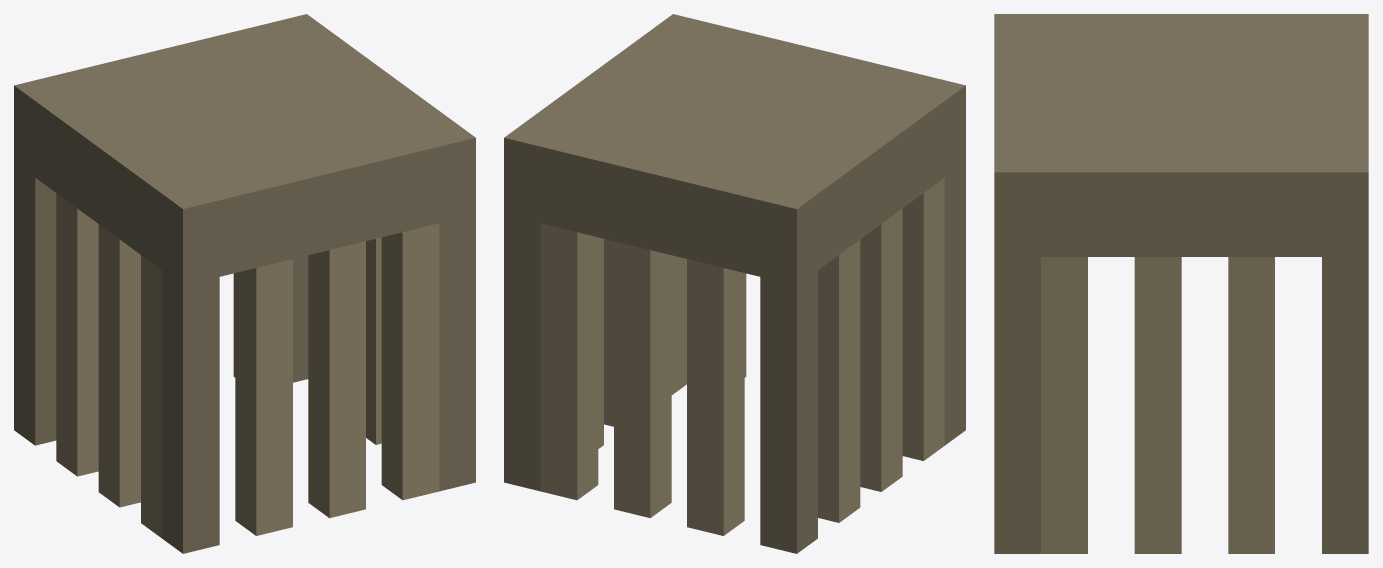
Rendered from jaula_vacia_02.glb.
The picture shows the model from 3 angles, left to right: view 1: azimuth 30°, elevation 25°; view 2: azimuth 150°, elevation 25°; view 3: azimuth 270°, elevation 25°; orthographic projection. The views are drawn at different scales.
Parts seen in each view (by area): view 1: jaula_vacia_02; view 2: jaula_vacia_02; view 3: jaula_vacia_02.
Boxes of the visible parts, bbox=[...] form: jaula_vacia_02: bbox=[14, 14, 475, 553]; jaula_vacia_02: bbox=[504, 14, 965, 553]; jaula_vacia_02: bbox=[994, 14, 1368, 553].
Size of the model in its own units: 0.8 by 0.9 by 0.8.
